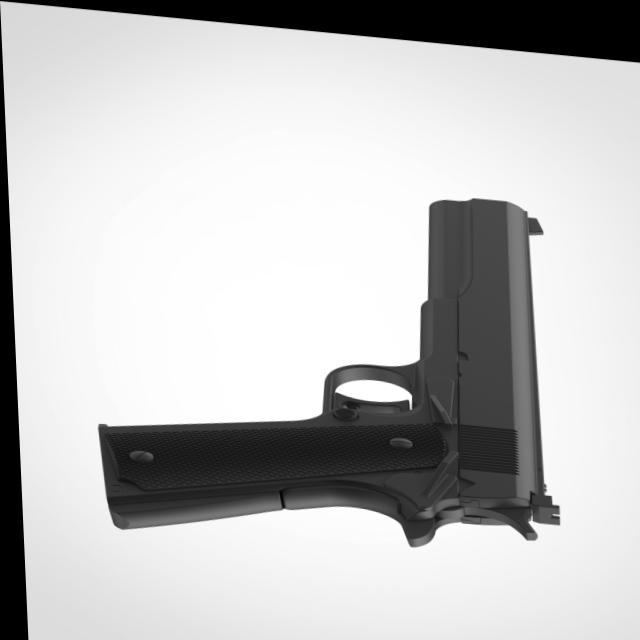handgun: (87, 157, 554, 561)
